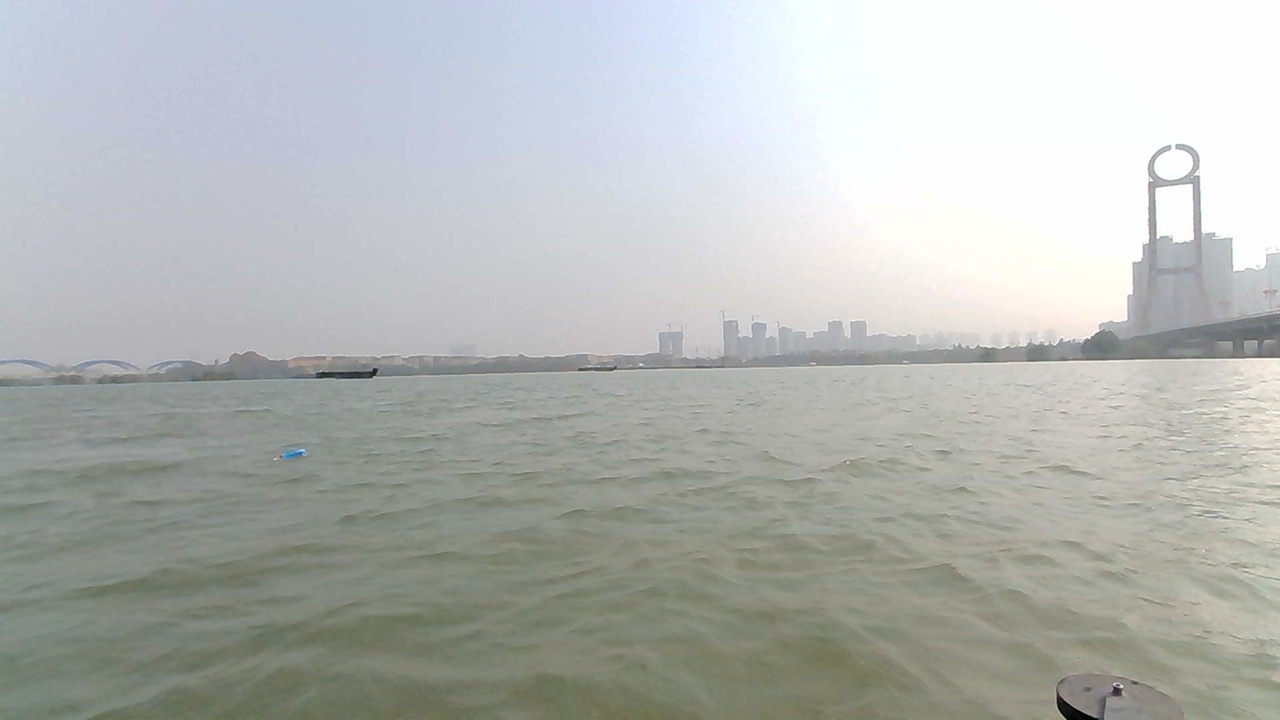bottle: (272, 445, 315, 466)
